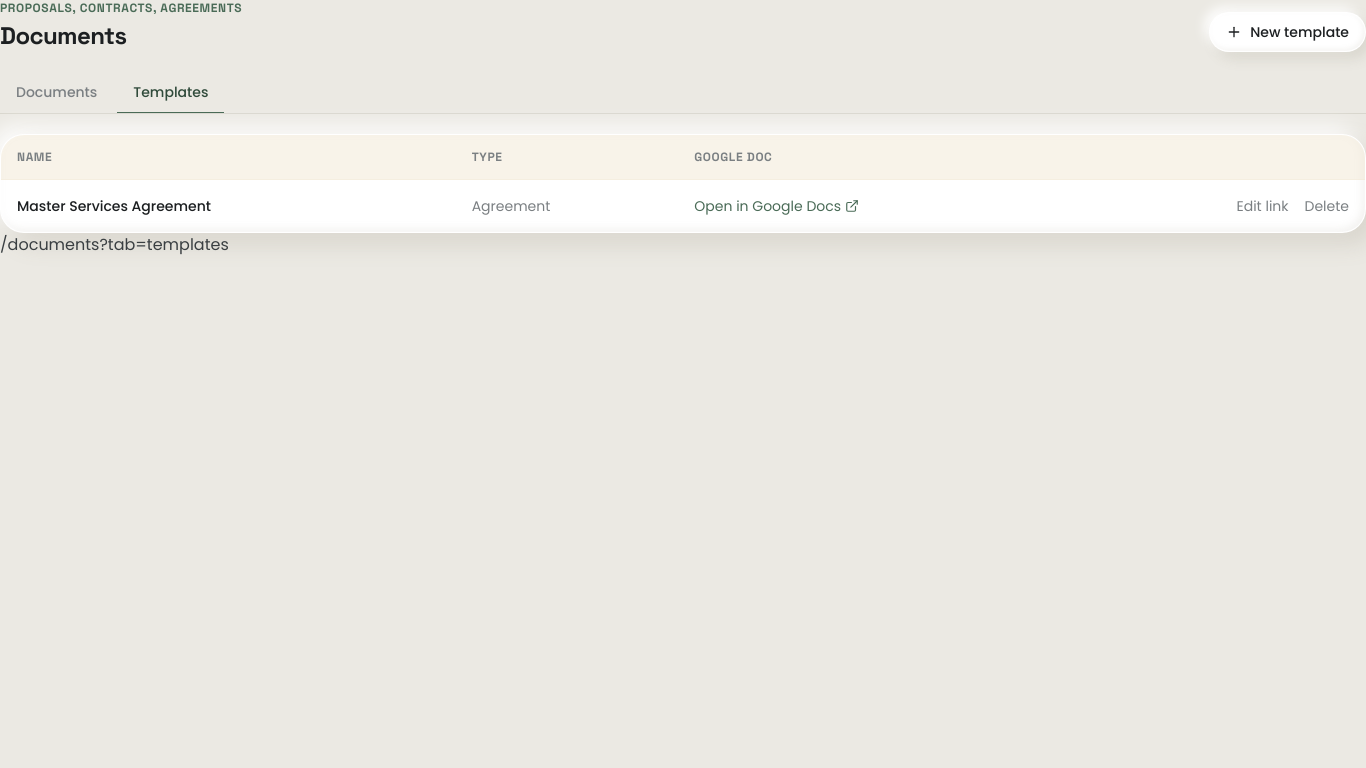
Test: DocumentsPage › shows templates on ?tab=templates and switches tabs via the URL
Expected: the text "Master Services Agreement" is shown, [1, 180, 456, 232]
Click the button "New template".
click(1288, 32)  # box [1209, 12, 1365, 52]
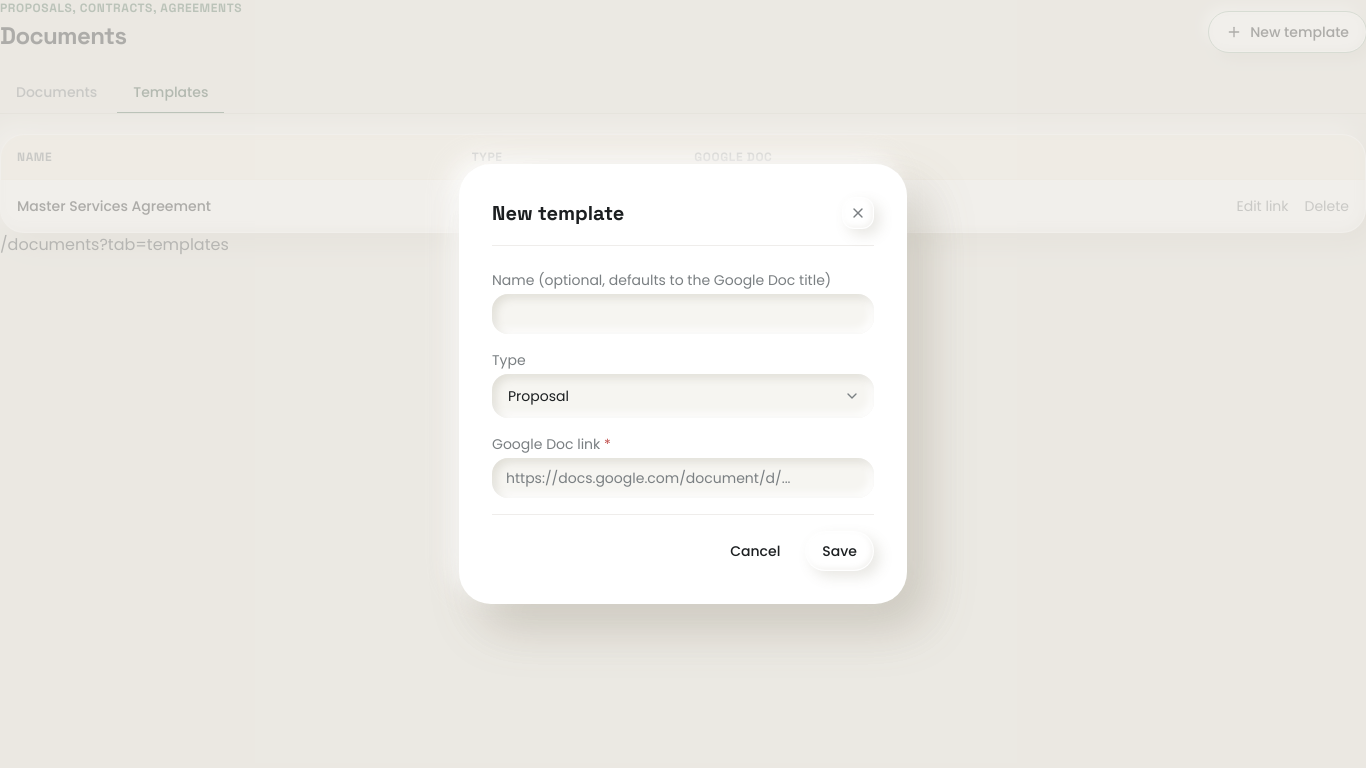
Now the dialog "New template" is shown, box [459, 164, 907, 604]
Click the button "Cancel".
click(755, 551)  # box [713, 531, 797, 571]
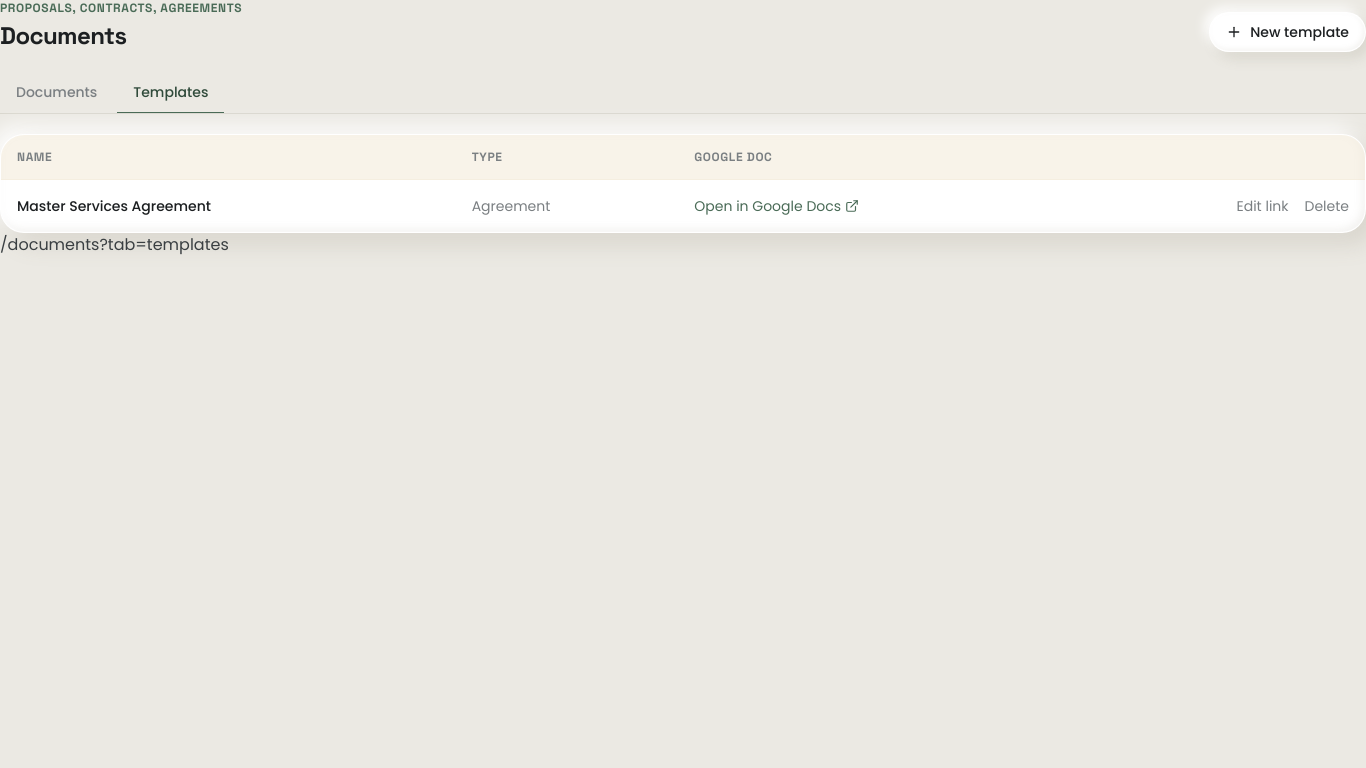
Click the tab "Documents".
click(57, 93)  # box [0, 72, 113, 114]
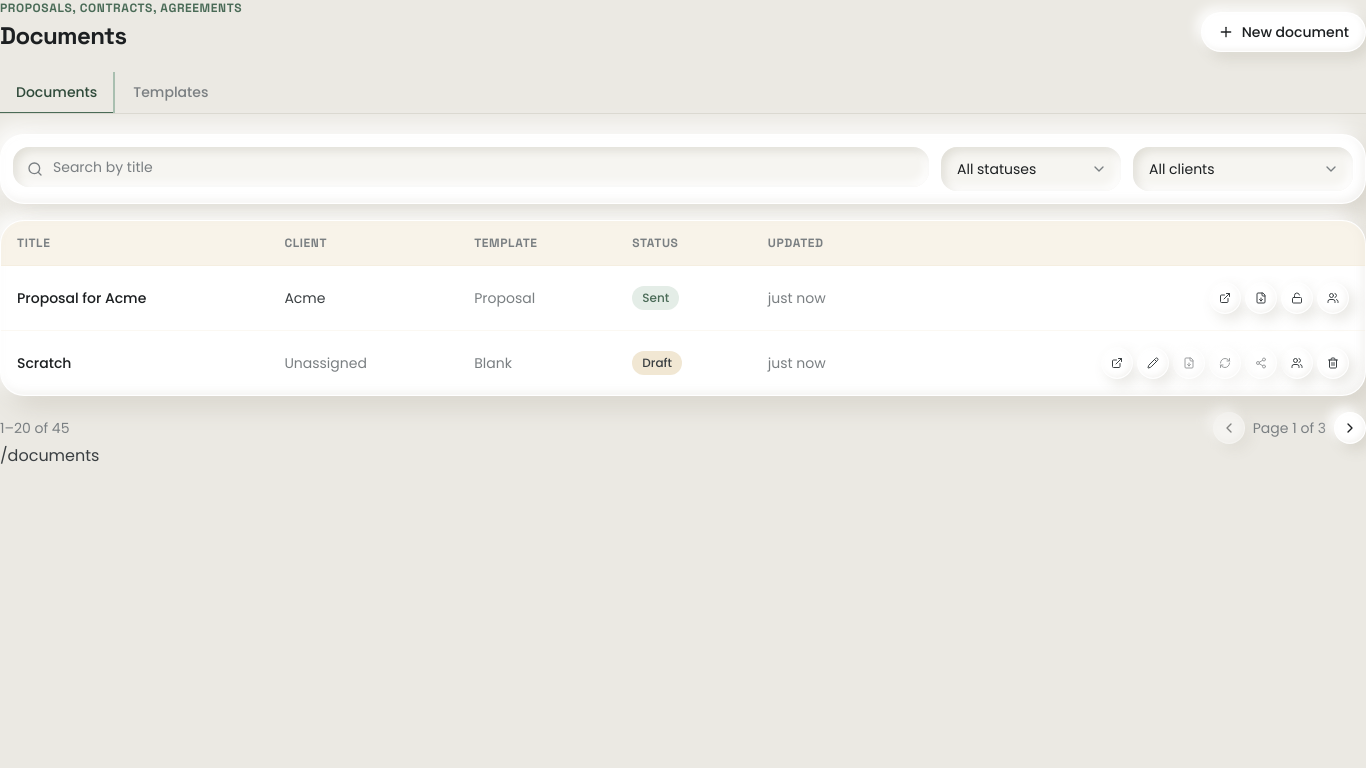
Now the text with test id "probe" reads "/documents", box [0, 444, 100, 467]
Now the button "New document" is shown, box [1201, 12, 1365, 52]
